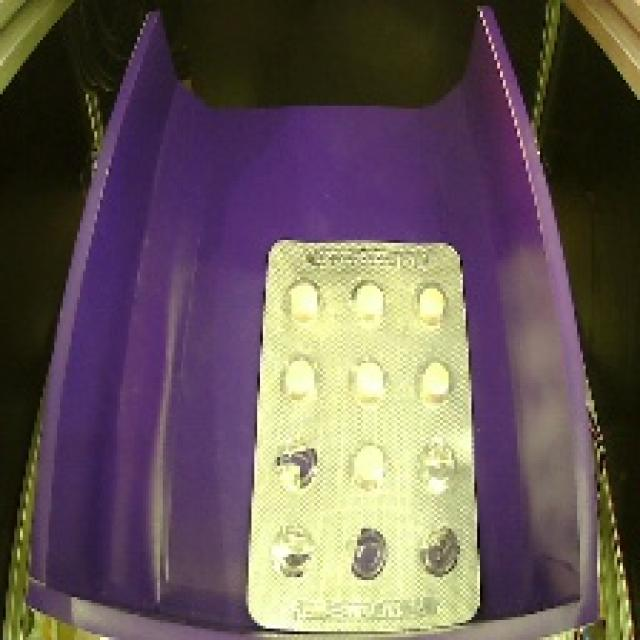med_plate: (231, 216, 492, 640)
